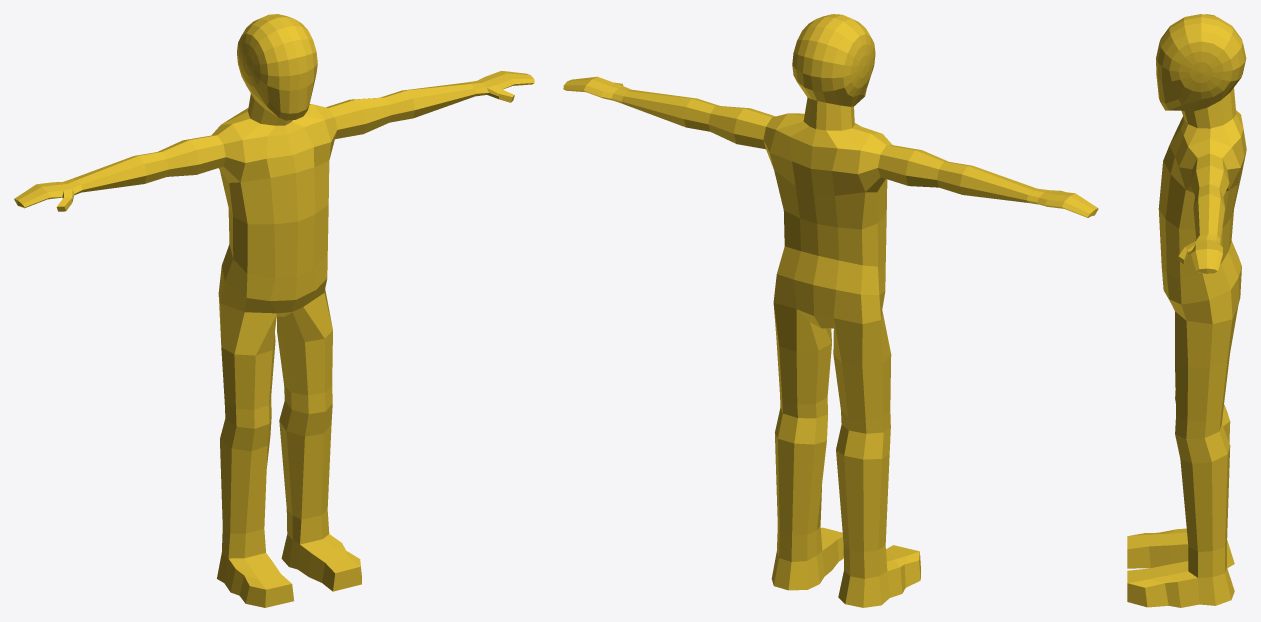
Rendered from charactermodelinglowpolyfig.glb.
3 renders of one model, left to right at view 1: azimuth 30°, elevation 25°; view 2: azimuth 150°, elevation 25°; view 3: azimuth 270°, elevation 25°, orthographic. The views are drawn at different scales.
Visible parts, largest first — view 1: Sphere.001; view 2: Sphere.001; view 3: Sphere.001.
Part boxes in pixels (x1,y1,x2,y2): Sphere.001: (14,14,534,607); Sphere.001: (563,14,1098,607); Sphere.001: (1127,14,1246,607).
Size of the model in its own units: 4.61 by 4.75 by 0.9153.
